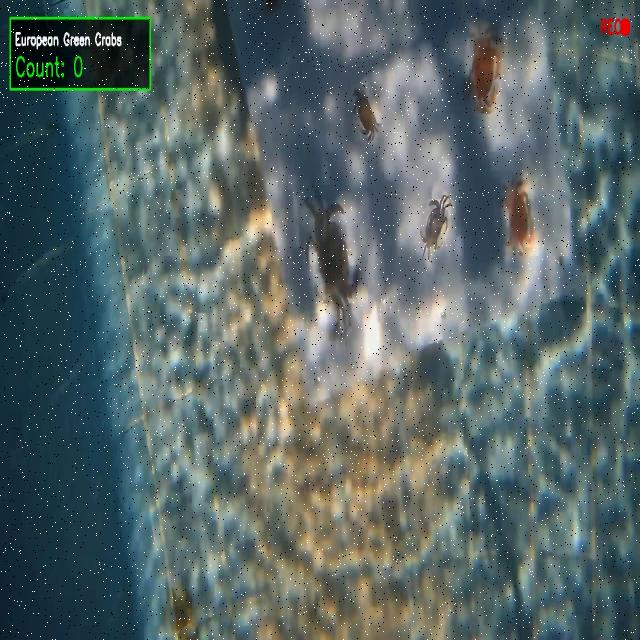European_Green_Crab: (292, 175, 375, 347), (416, 186, 458, 266)
